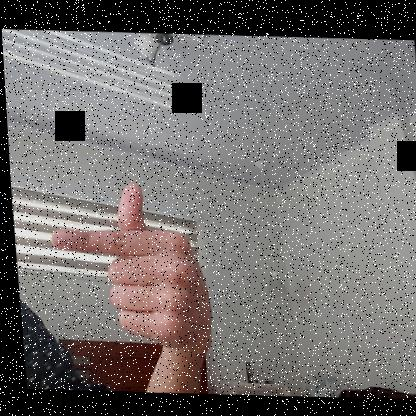T: (39, 175, 211, 360)
